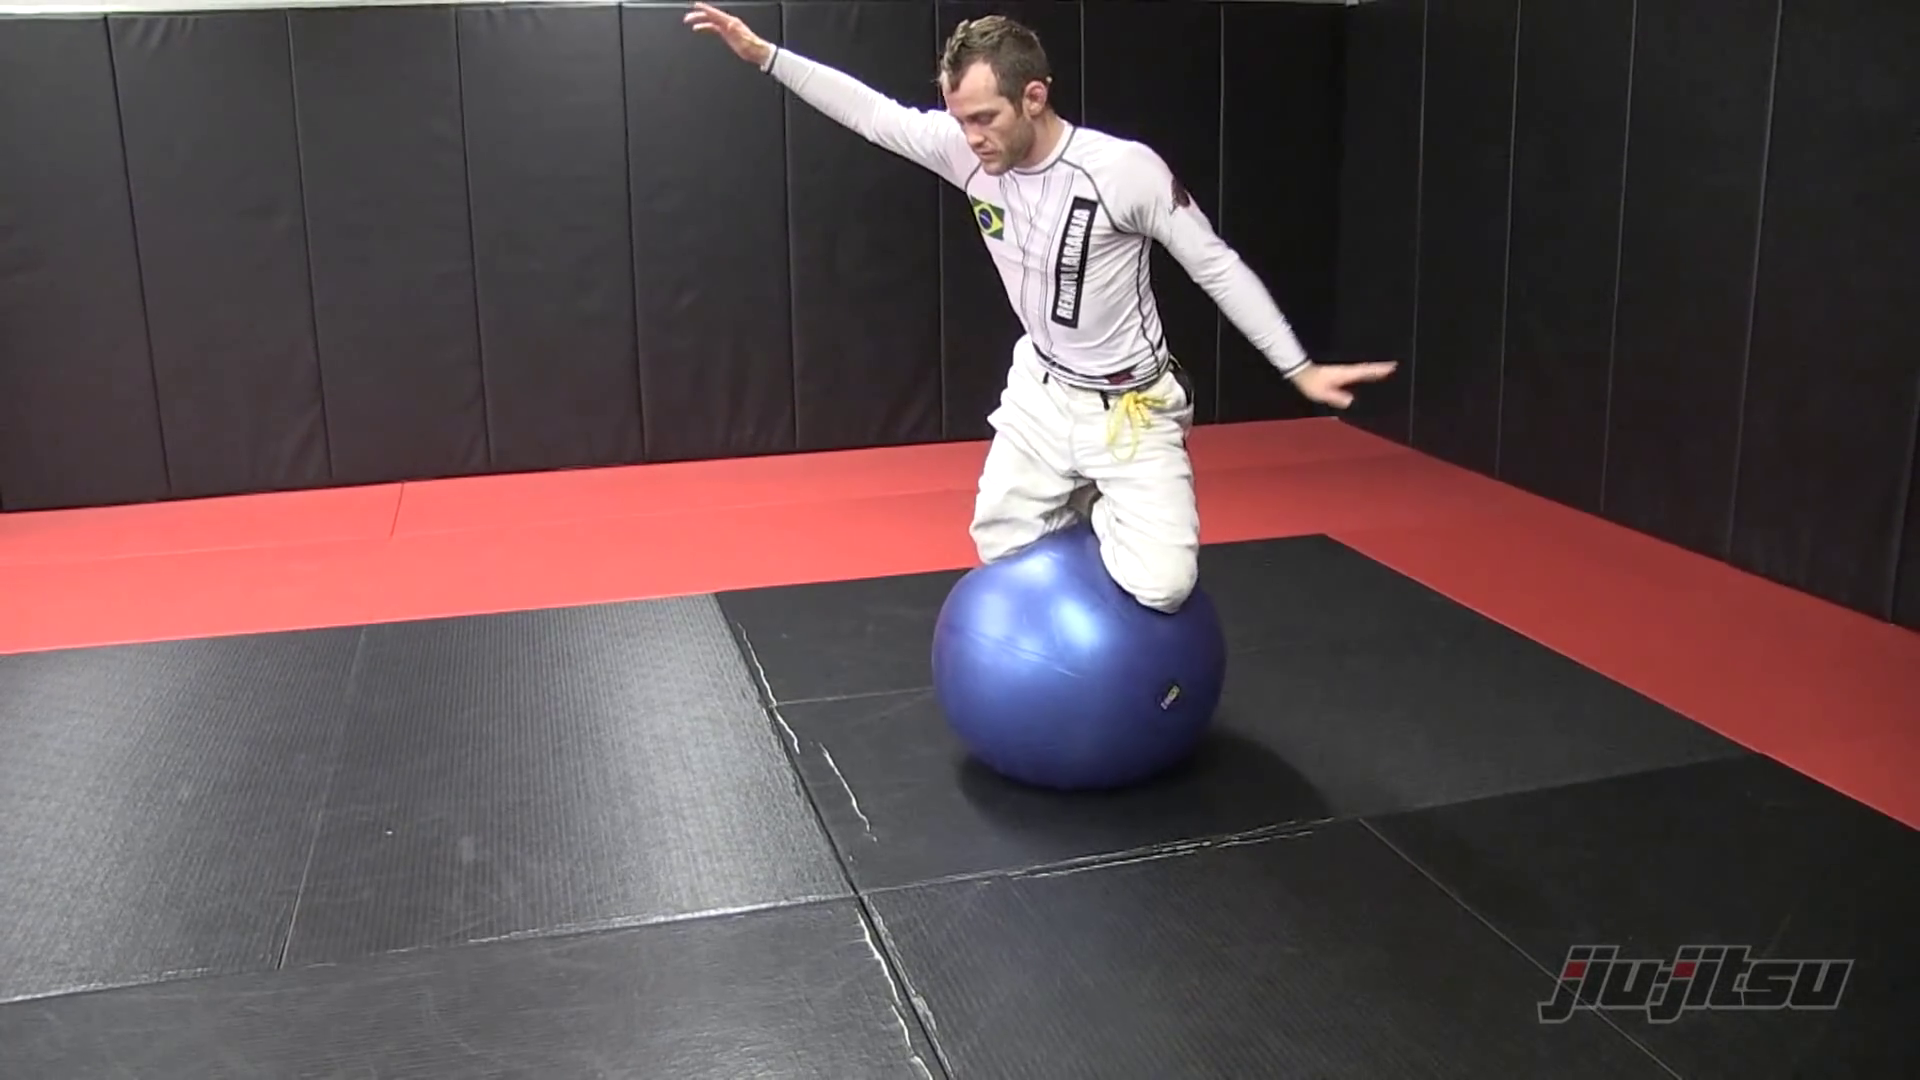yogaball: (909, 538, 1241, 808)
